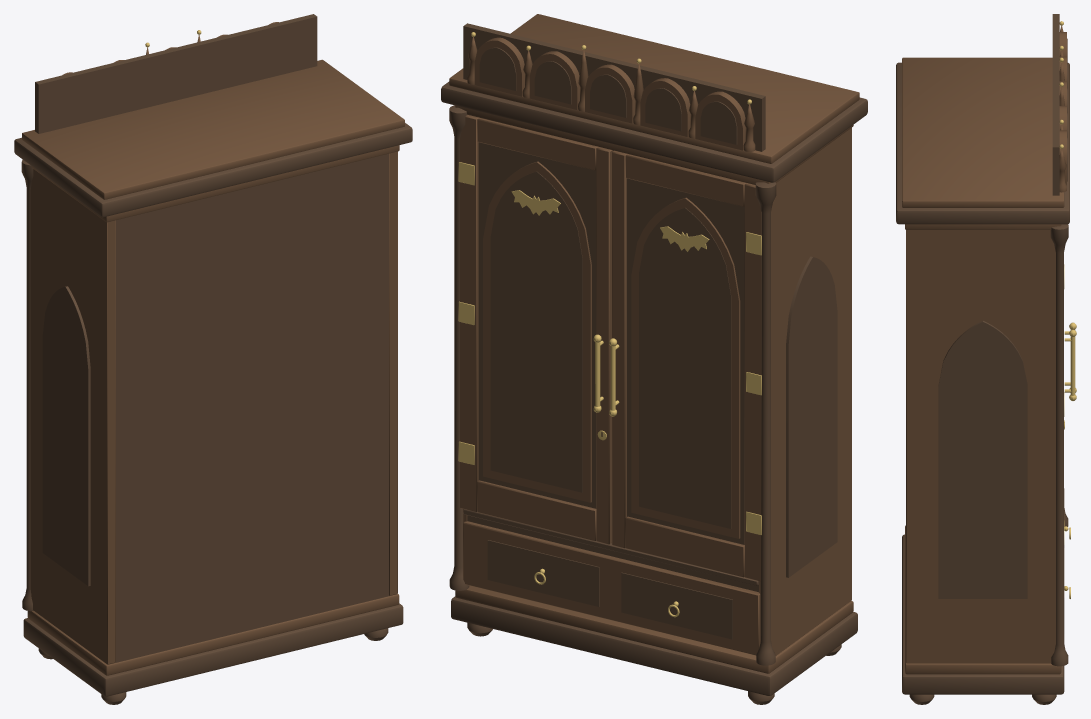
File: gu_armadio.fbx
3 renders of one model, left to right at view 1: azimuth 30°, elevation 25°; view 2: azimuth 150°, elevation 25°; view 3: azimuth 270°, elevation 25°, orthographic. The views are drawn at different scales.
Visible parts, largest first — view 1: gu_armadio_legno, gu_armadio_noce; view 2: gu_armadio_legno, gu_armadio_noce, gu_armadio_anta_dx, gu_armadio_anta_sx; view 3: gu_armadio_noce, gu_armadio_legno, gu_armadio_anta_dx.
Part boxes in pixels (<box>): gu_armadio_legno: <box>14,14,412,704</box>; gu_armadio_noce: <box>22,22,404,675</box>; gu_armadio_legno: <box>441,23,867,704</box>; gu_armadio_noce: <box>449,14,859,673</box>; gu_armadio_anta_dx: <box>458,115,613,544</box>; gu_armadio_anta_sx: <box>609,150,761,581</box>; gu_armadio_noce: <box>902,25,1066,674</box>; gu_armadio_legno: <box>896,14,1069,704</box>; gu_armadio_anta_dx: <box>1064,265,1076,544</box>.
Size of the model in its own units: 1.5 by 2.67 by 0.7685.
